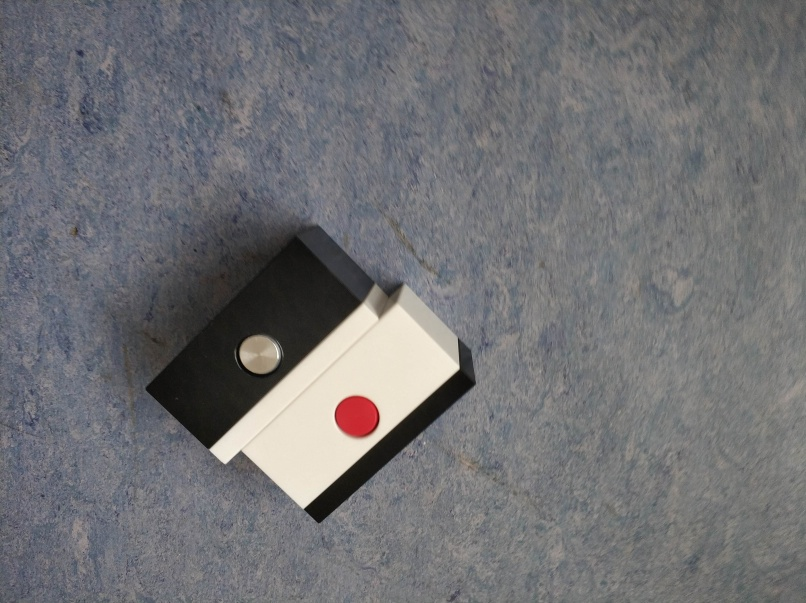black+white+red: (239, 285, 479, 526)
white+black+silver: (142, 221, 389, 468)
